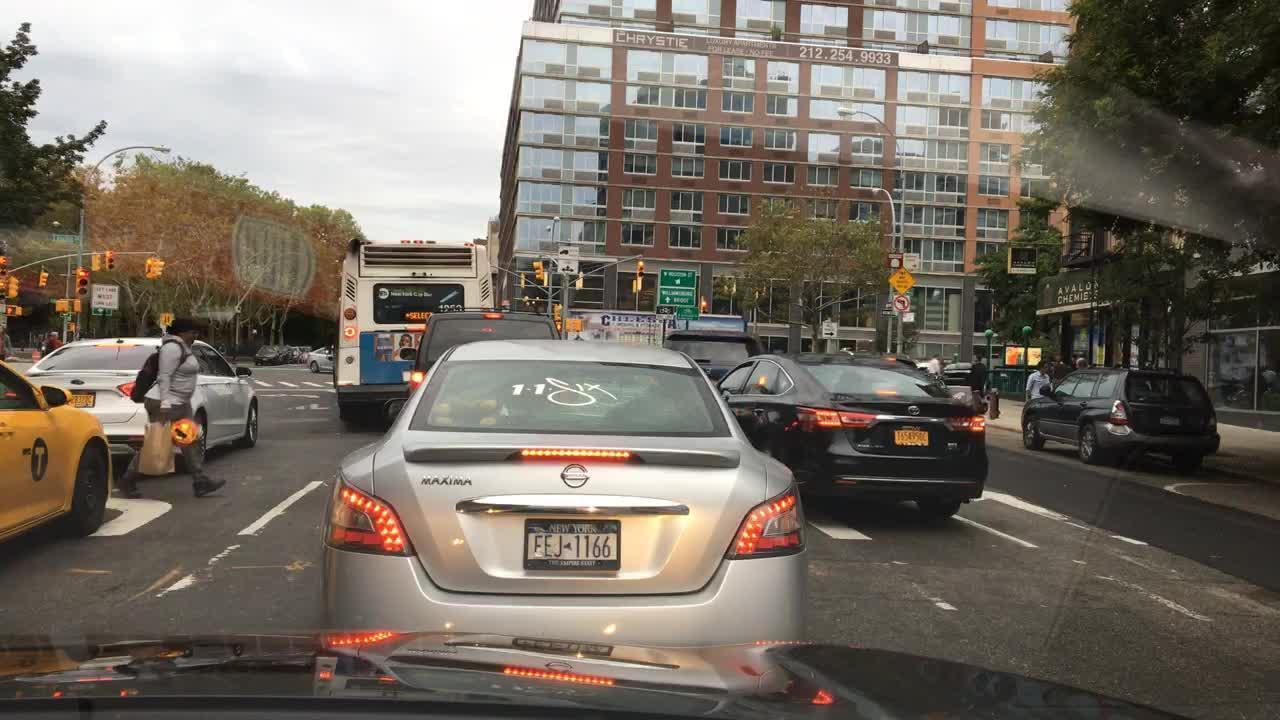Nissan: (558, 456, 592, 494)
kia: (67, 373, 89, 390)
